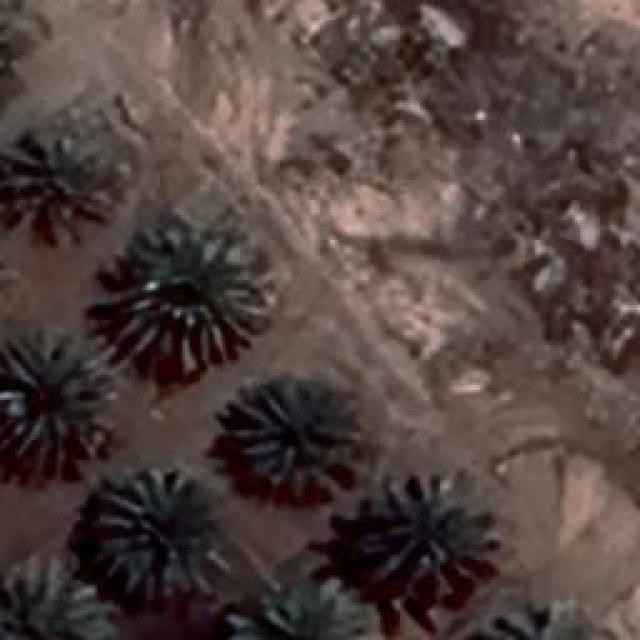PalmTree: (112, 225, 268, 373), (90, 464, 220, 598), (364, 472, 498, 590), (230, 380, 360, 498), (0, 332, 110, 458), (2, 130, 116, 242), (225, 578, 373, 638), (0, 562, 105, 640), (490, 608, 605, 638)
